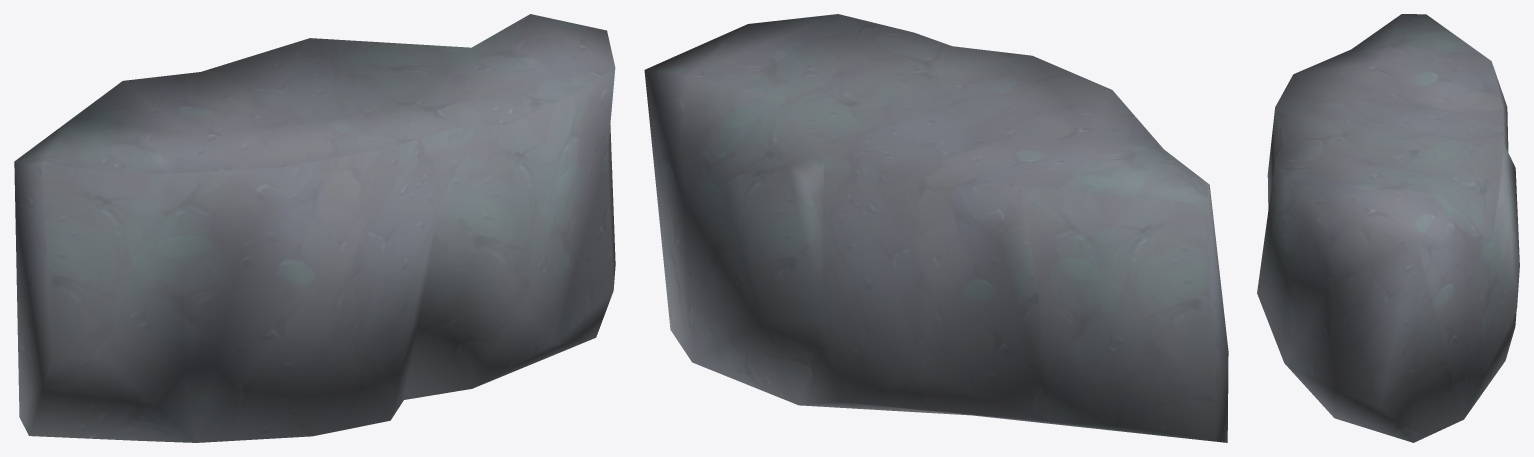
The model's file is Boulder_L.fbx.
3 renders of one model, left to right at view 1: azimuth 30°, elevation 25°; view 2: azimuth 150°, elevation 25°; view 3: azimuth 270°, elevation 25°, orthographic. The views are drawn at different scales.
Visible parts, largest first — view 1: Boulder_L; view 2: Boulder_L; view 3: Boulder_L.
Boxes of the visible parts, <box> form: Boulder_L: <box>14,14,615,442</box>; Boulder_L: <box>644,14,1228,442</box>; Boulder_L: <box>1257,14,1519,442</box>.
Bounding box in the file's own units: 1259 × 591 × 620.
